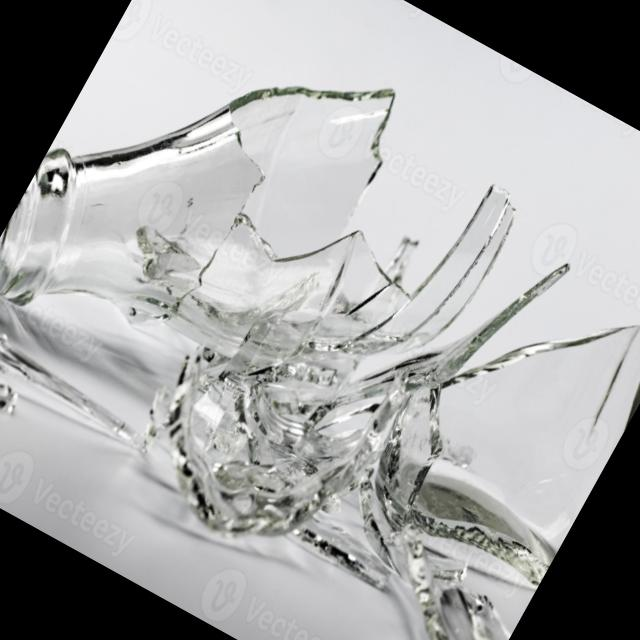PecahanKaca: (0, 0, 640, 640), (110, 86, 588, 621), (0, 0, 424, 443), (299, 225, 640, 640)
